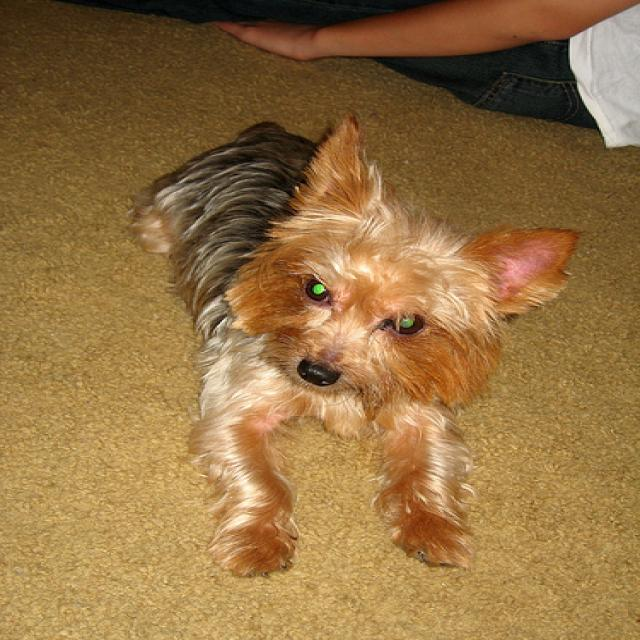dog-yorkshire_terrier: (113, 111, 580, 590)
